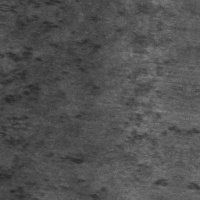rolled-in_scale: (0, 39, 52, 191), (114, 110, 180, 190)
